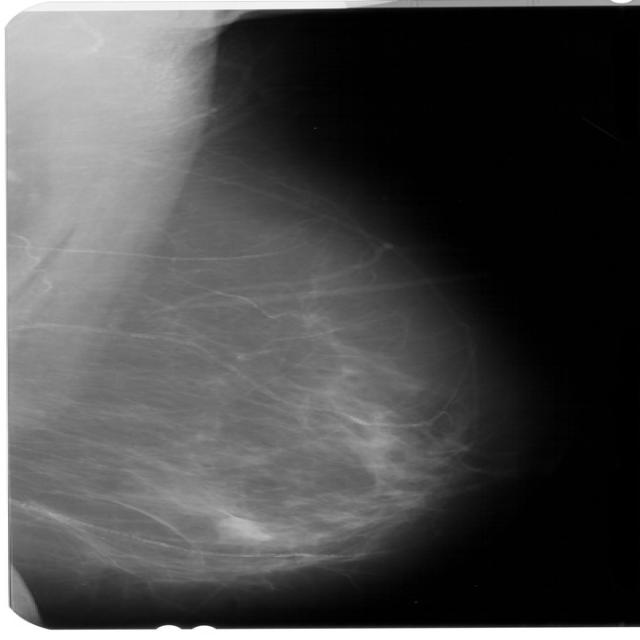tumour: (214, 516, 272, 543)
